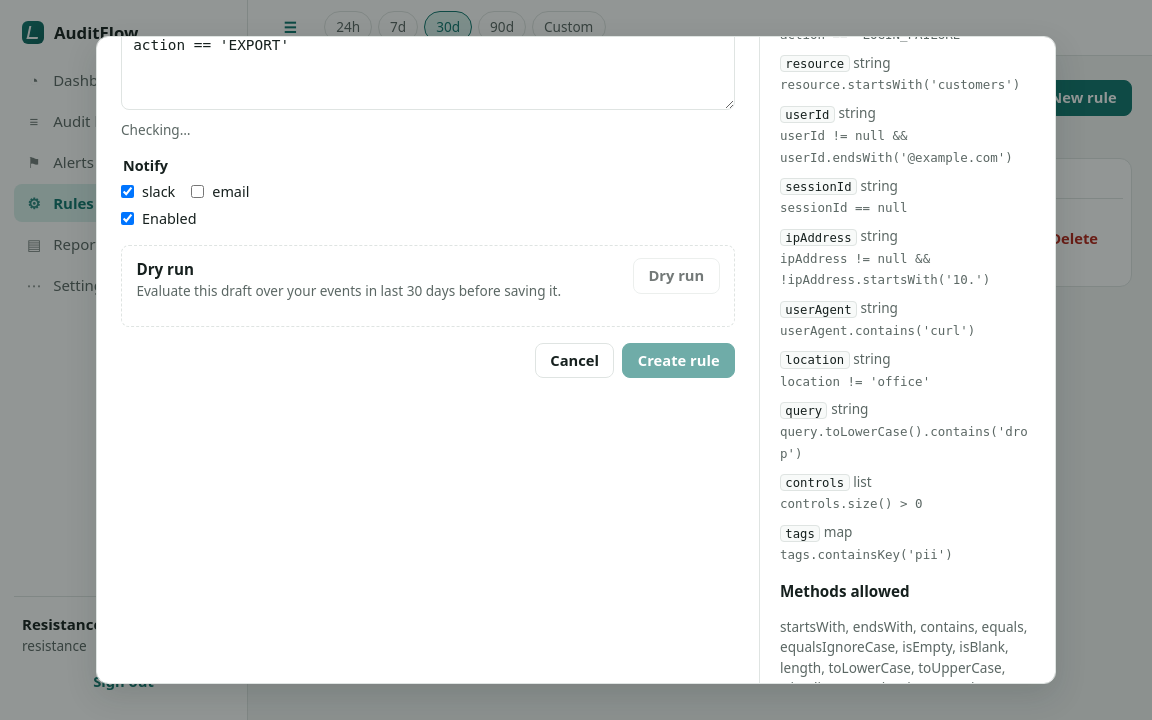
Test case: rules › opens pre-filled from the explorer, and edits send a PUT
(page scrolled)
Expected: the text box labelled "Condition (optional)" holds "action == 'EXPORT'", [121,36,735,110]
Click the button "Cancel" at (575, 360), box [535,343,614,378]
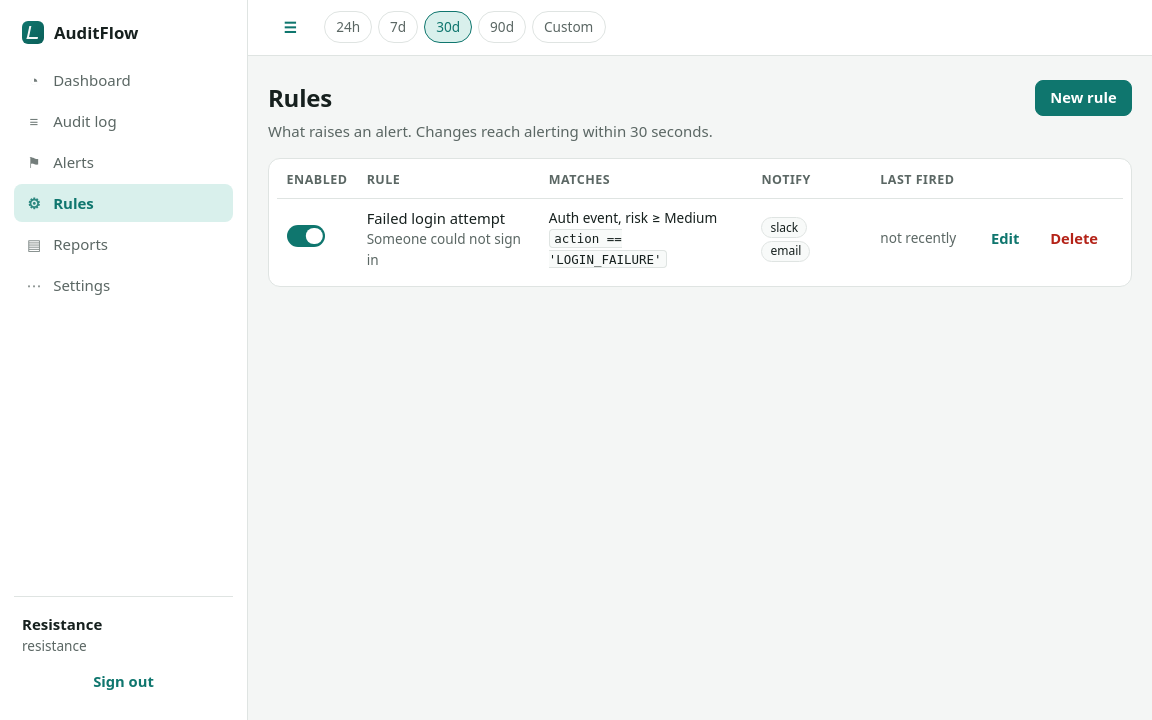
Now the dialog is gone
Click the button "Edit" at (1005, 239), box [976,221,1035,256]
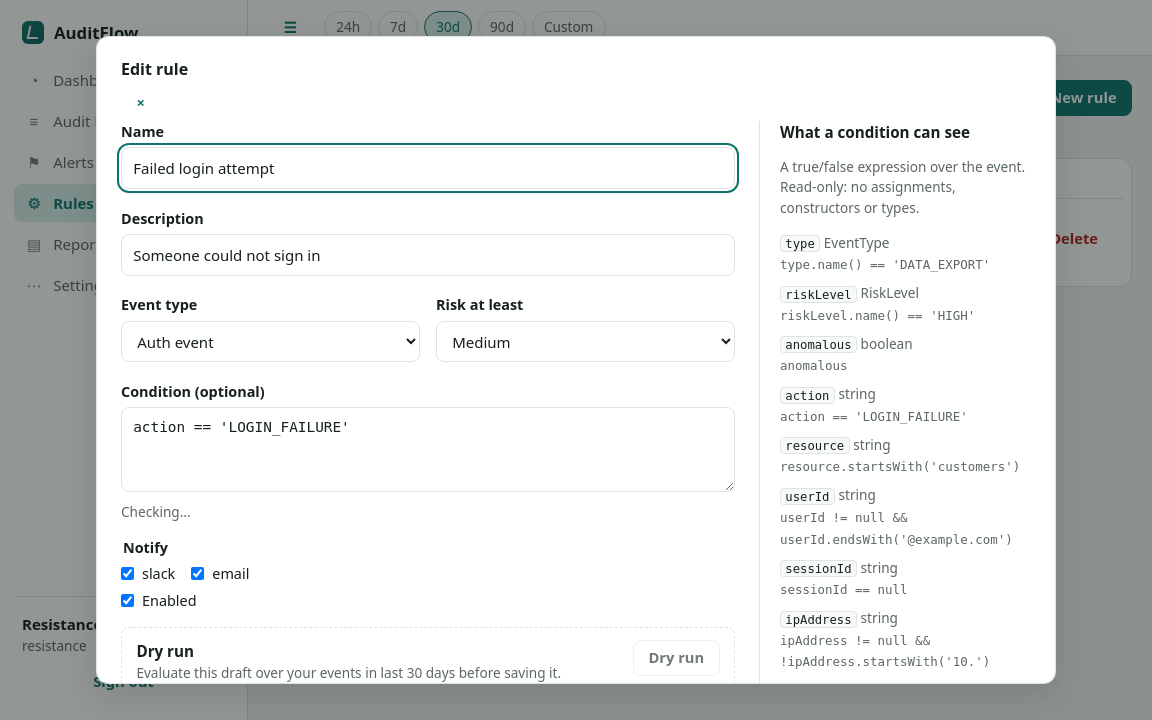
Type " (renamed)" into the field labelled "Name" at (428, 168), box [121,147,735,189]
(page scrolled)
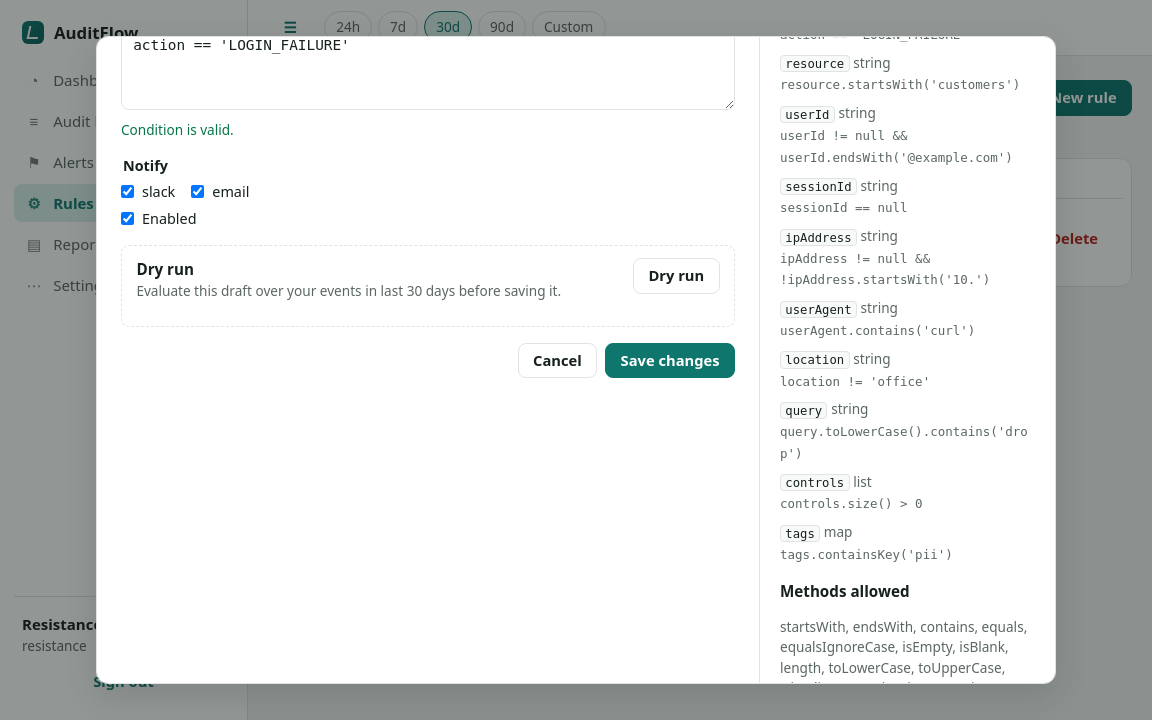
Now the text "Condition is valid." is shown, box [121,120,234,139]
Click the button "Save changes" at (670, 360), box [605,343,735,378]
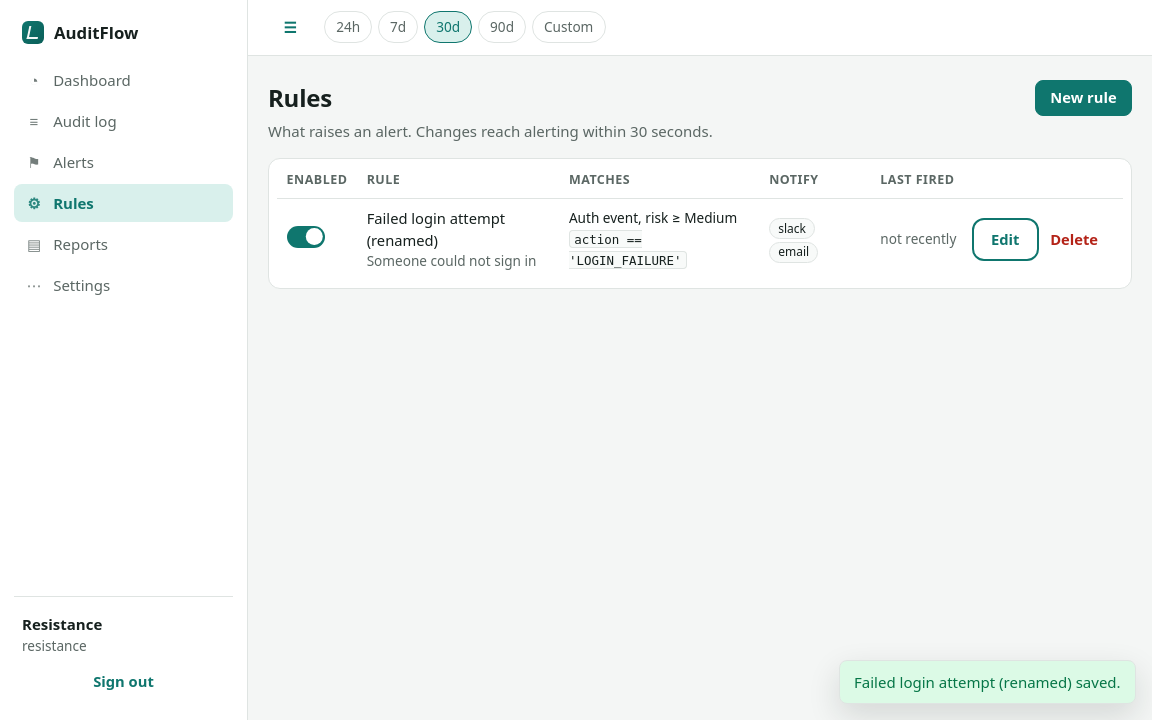
Now the text "Failed login attempt (renamed)" is shown, box [367,208,505,250]
Now the text "Failed login attempt (renamed) saved." is shown, box [839,660,1136,704]
